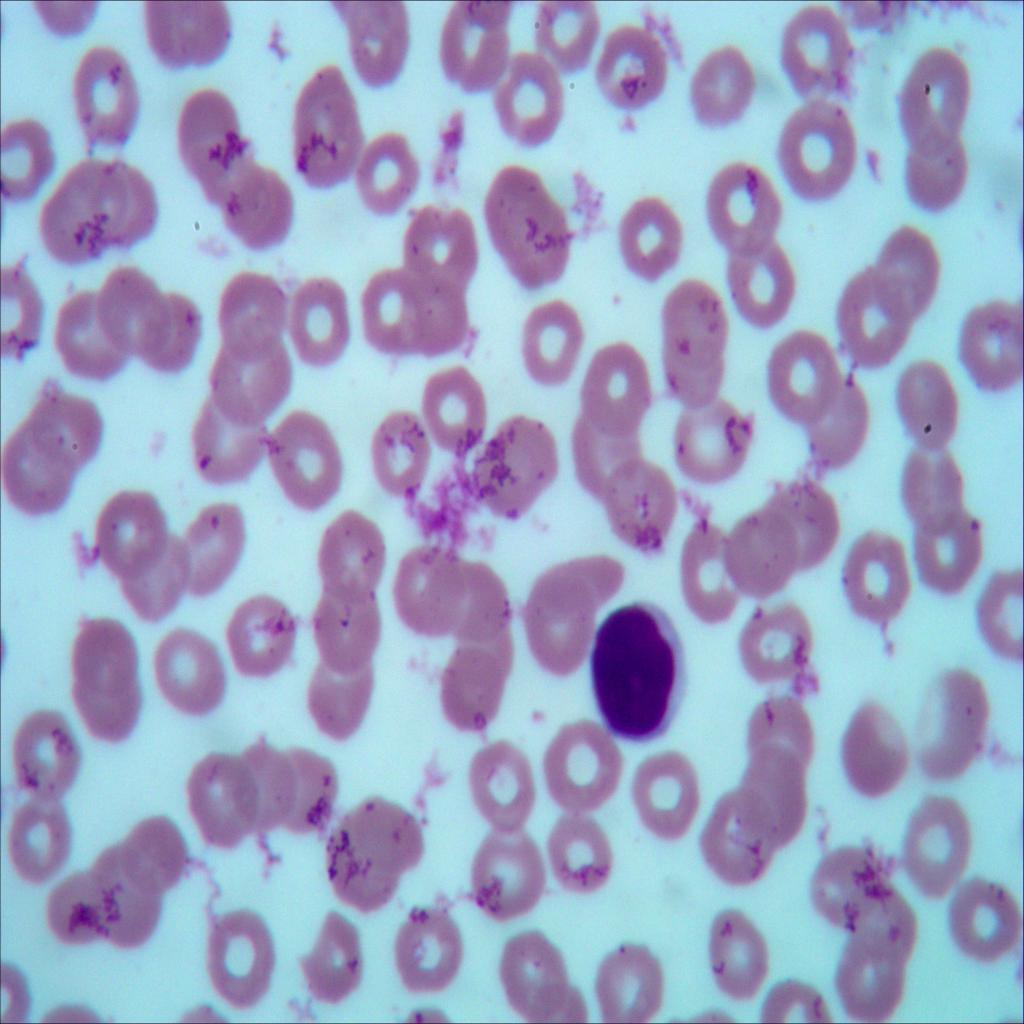Limfoblast: (576, 586, 694, 738)
